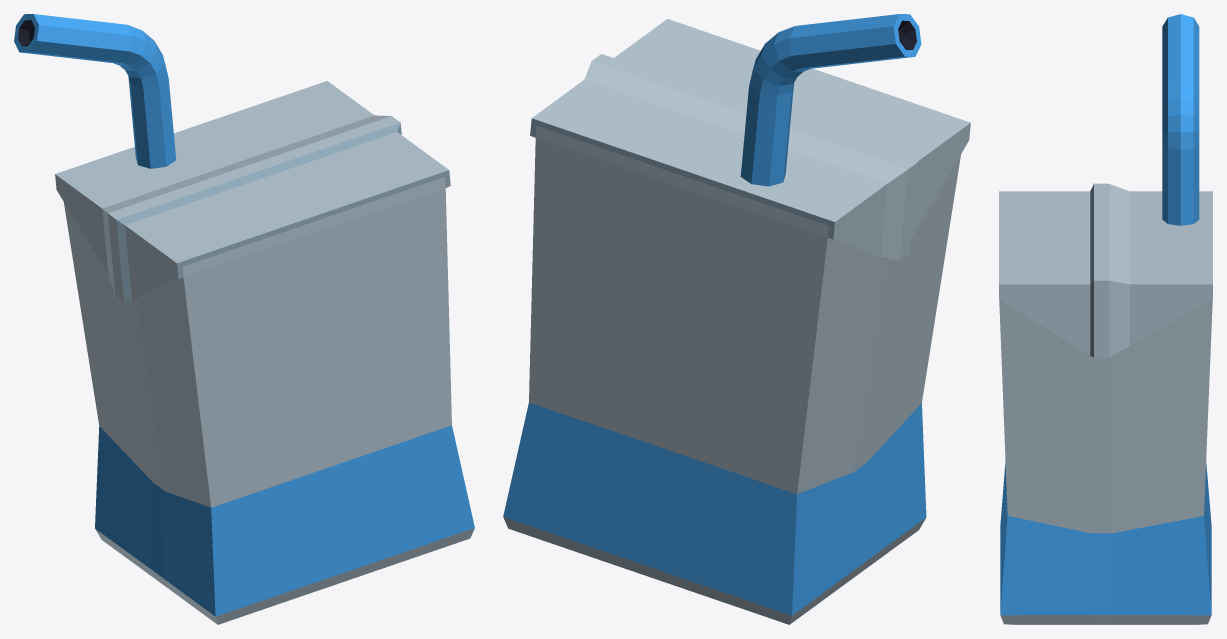
Rendered from FrootBox.MeelkFroot.fbx.
3 views of the same model, side by side, from view 1: azimuth 30°, elevation 25°; view 2: azimuth 150°, elevation 25°; view 3: azimuth 270°, elevation 25° (orthographic). The views are drawn at different scales.
Visible parts, largest first — view 1: FrootBox.MeelkFroot; view 2: FrootBox.MeelkFroot; view 3: FrootBox.MeelkFroot.
Boxes of the visible parts, left/top/right/bottom form: FrootBox.MeelkFroot: left=14, top=14, right=474, bottom=624; FrootBox.MeelkFroot: left=503, top=14, right=970, bottom=624; FrootBox.MeelkFroot: left=999, top=14, right=1212, bottom=624.
Size of the model in its own units: 52.12 by 79.25 by 31.22.
